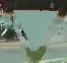Give way: (4, 3, 60, 59)
